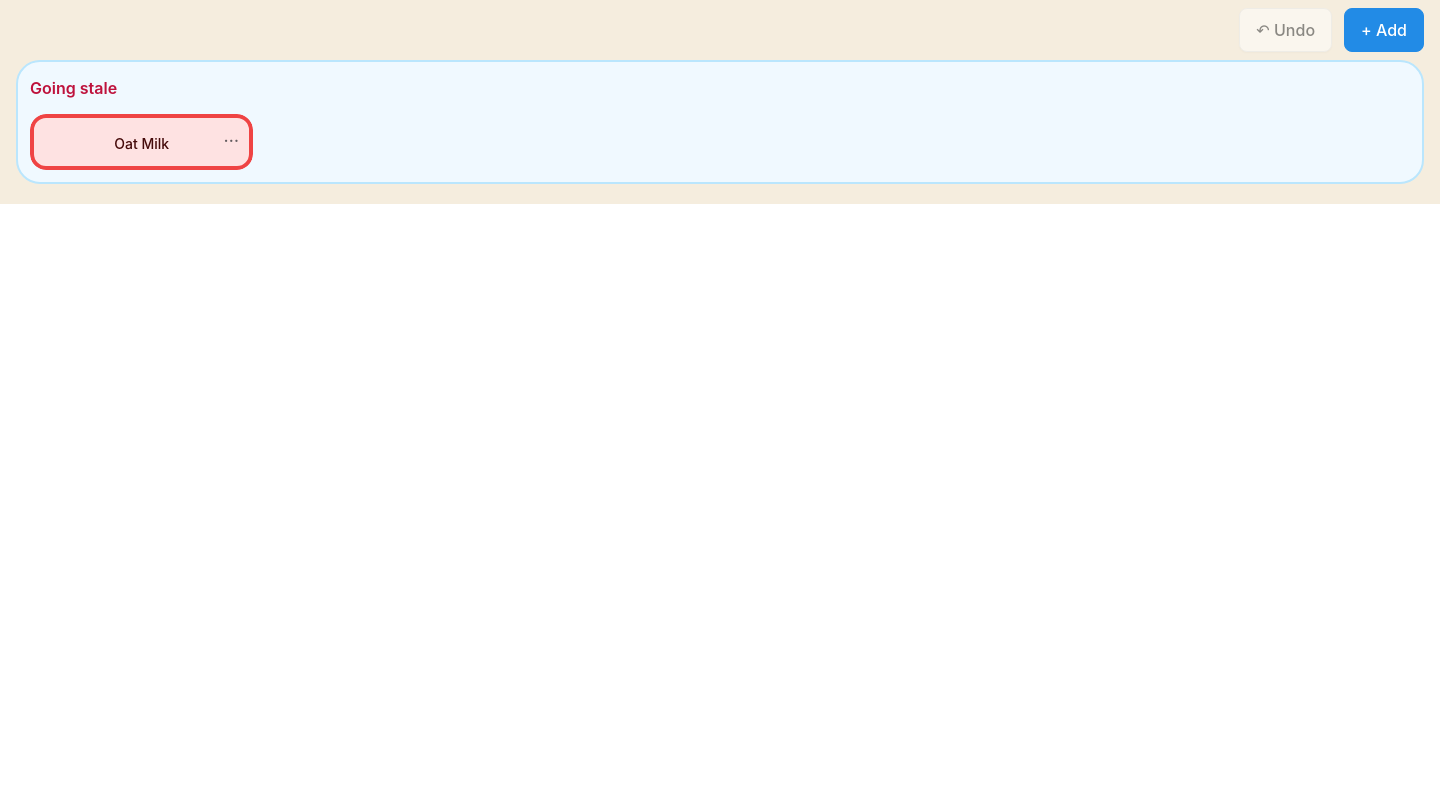
Scenario: The sheet behind "…" › rolls back and shows the server error when consuming fails
This screenshot has width=1440, height=810.
What coordinates should you click on to do the following:
click the button named "More for Oat Milk"
I would click on:
 (231, 136)
Its box is [209,114,253,158].
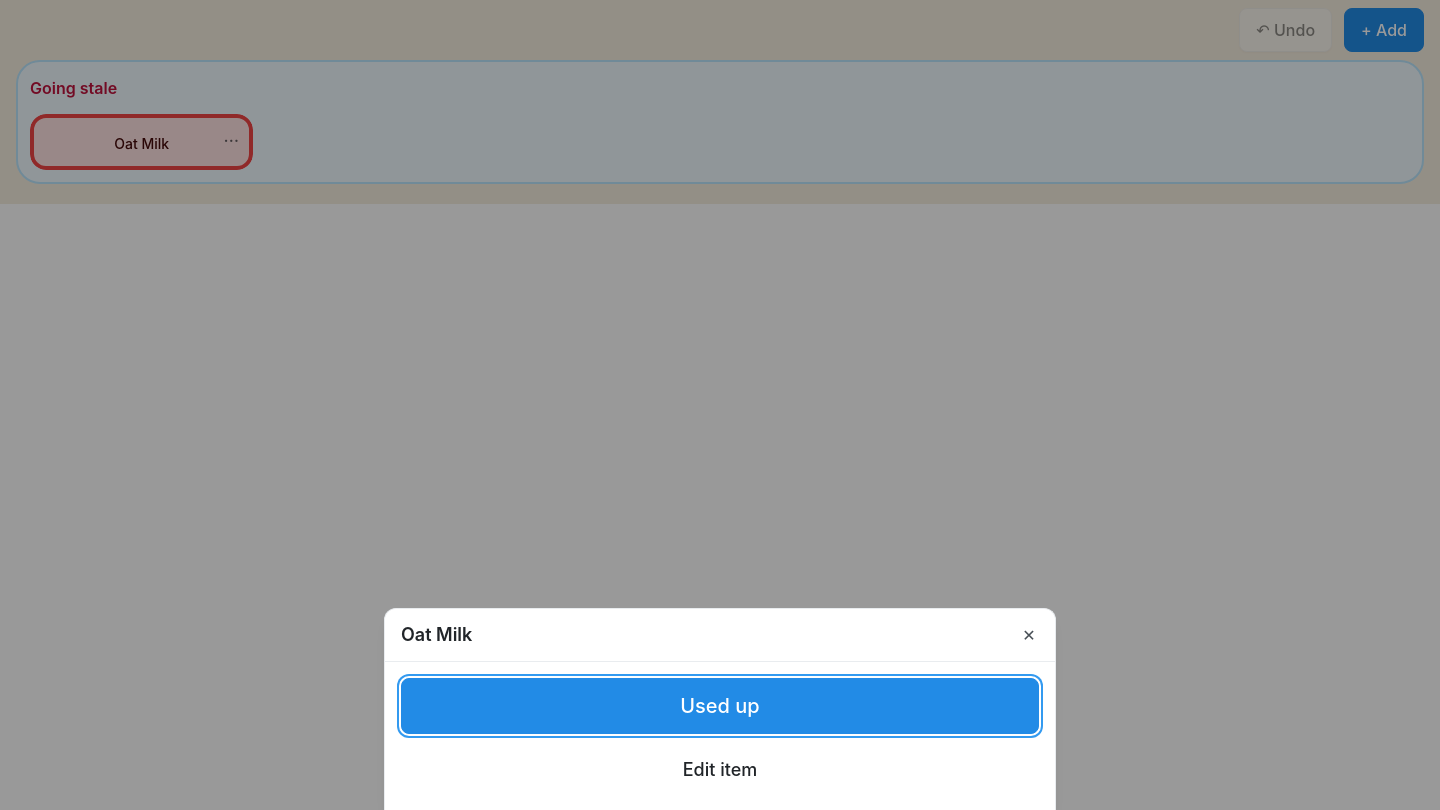
What coordinates should you click on to do the following:
click the button "Used up"
I would click on:
 (720, 706)
Its box is [401,678,1039,734].
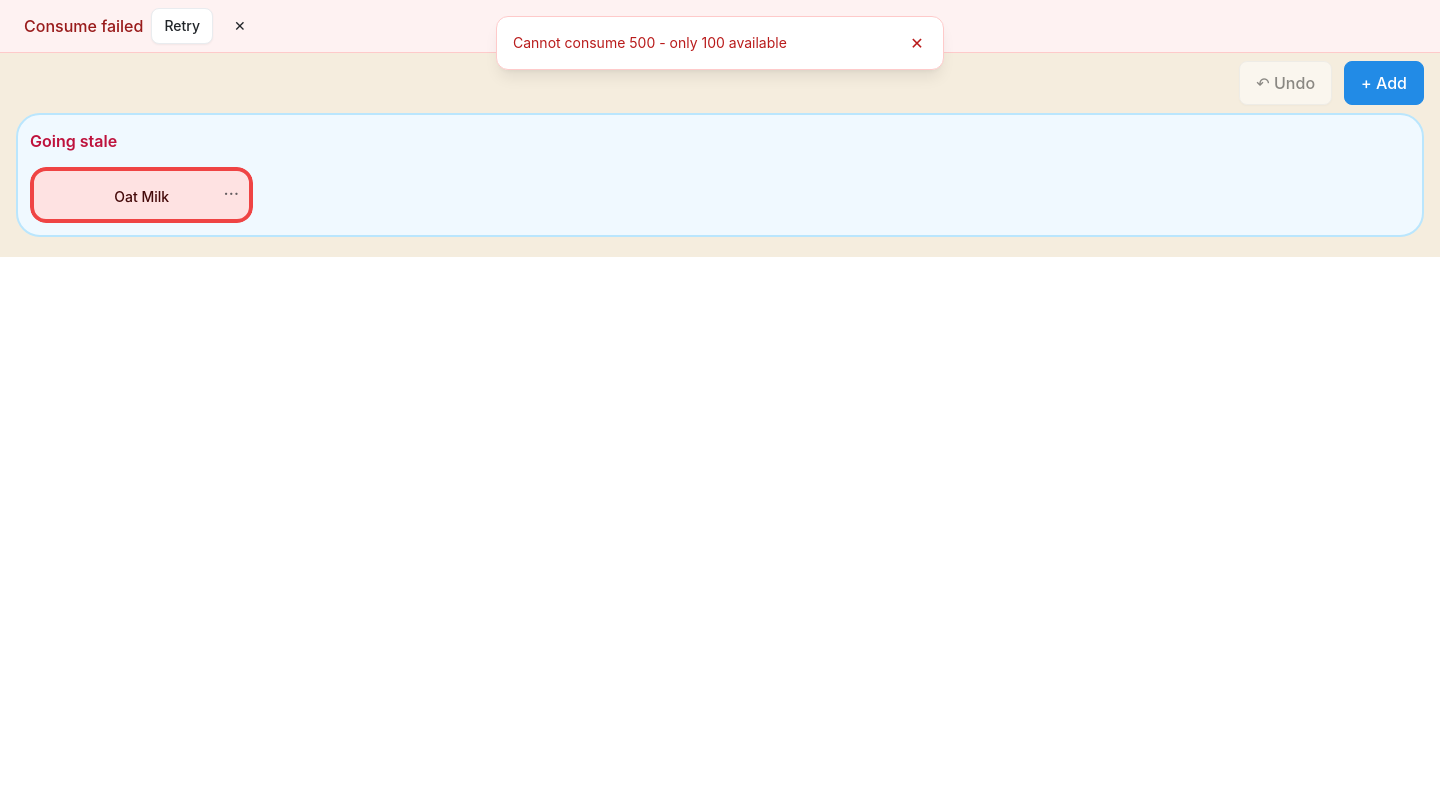
Expected: the button with aria-label "Oat Milk, going stale" is shown, [30,167,253,223]
Expected: the text "Cannot consume 500 - only 100 available" is shown, [513,34,787,51]
